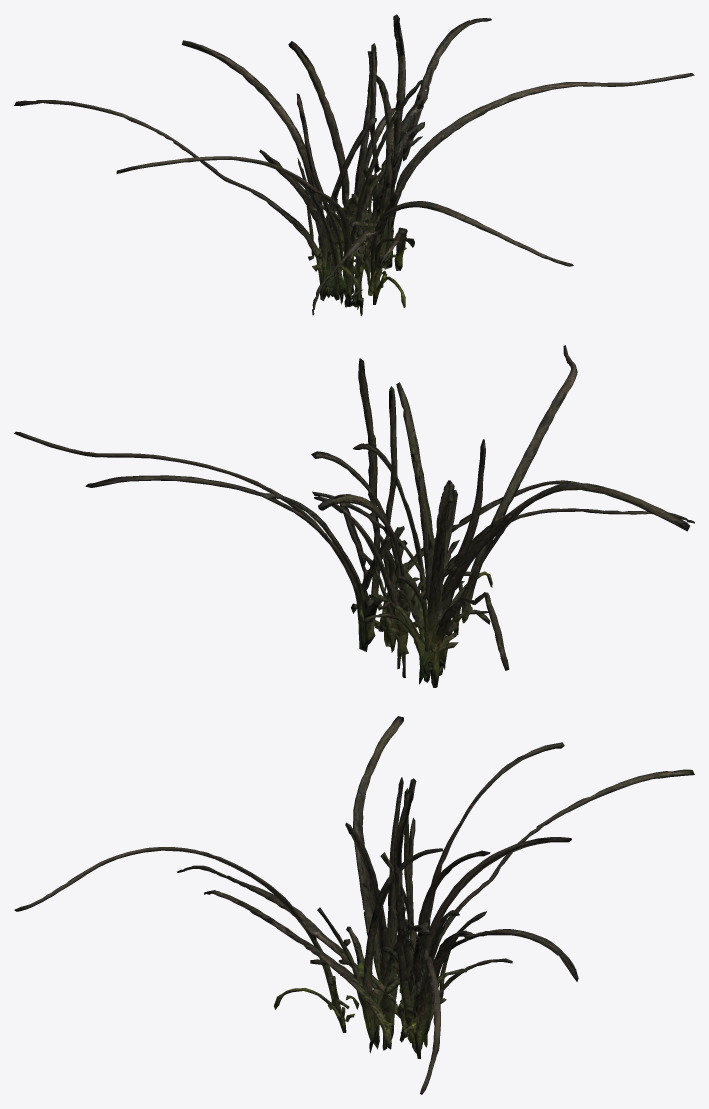
File: grove.glb
The picture shows the model from 3 angles, top to bottom: view 1: azimuth 30°, elevation 25°; view 2: azimuth 150°, elevation 25°; view 3: azimuth 270°, elevation 25°; orthographic projection. The views are drawn at different scales.
Size of the model in its own units: 2.01 by 0.8989 by 1.82.
Materials: 1 (1 with a texture image).
